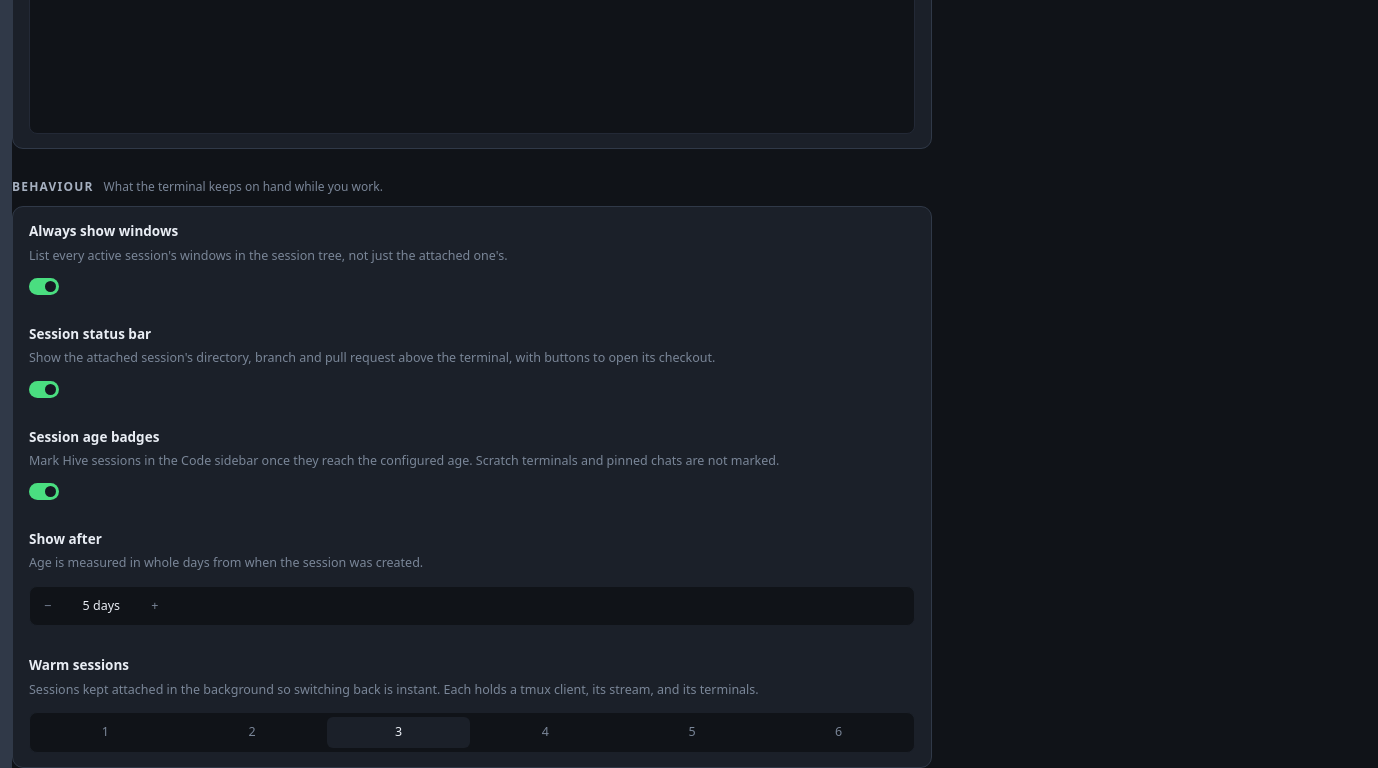
Test: TerminalSettingsView › disables session age badges and changes their threshold
(page scrolled)
Step 1. Click the switch with test id "settings-terminal-session-age" → (44, 492), box [29,483,59,500]
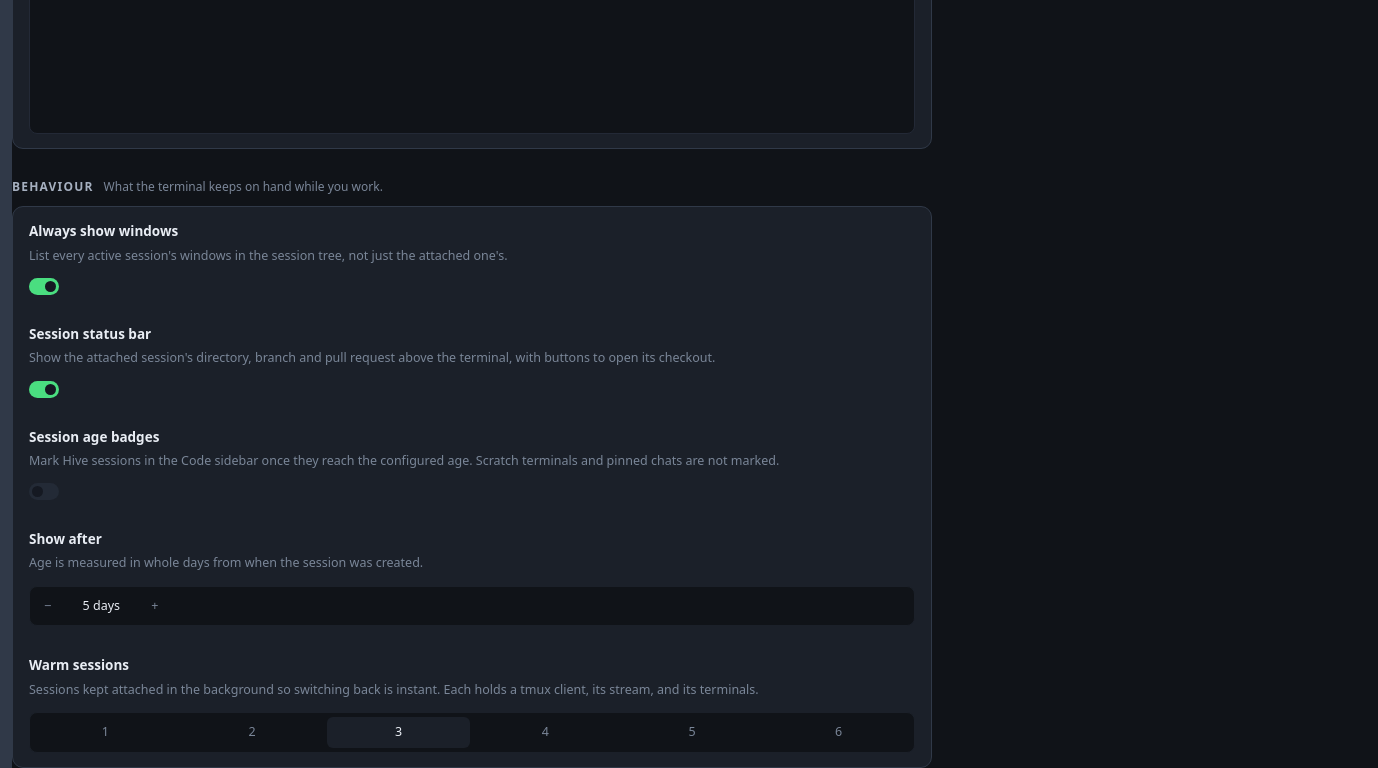
Step 2. Click the button with test id "settings-terminal-session-age-threshold-increase" → (155, 606), box [141,591,168,622]
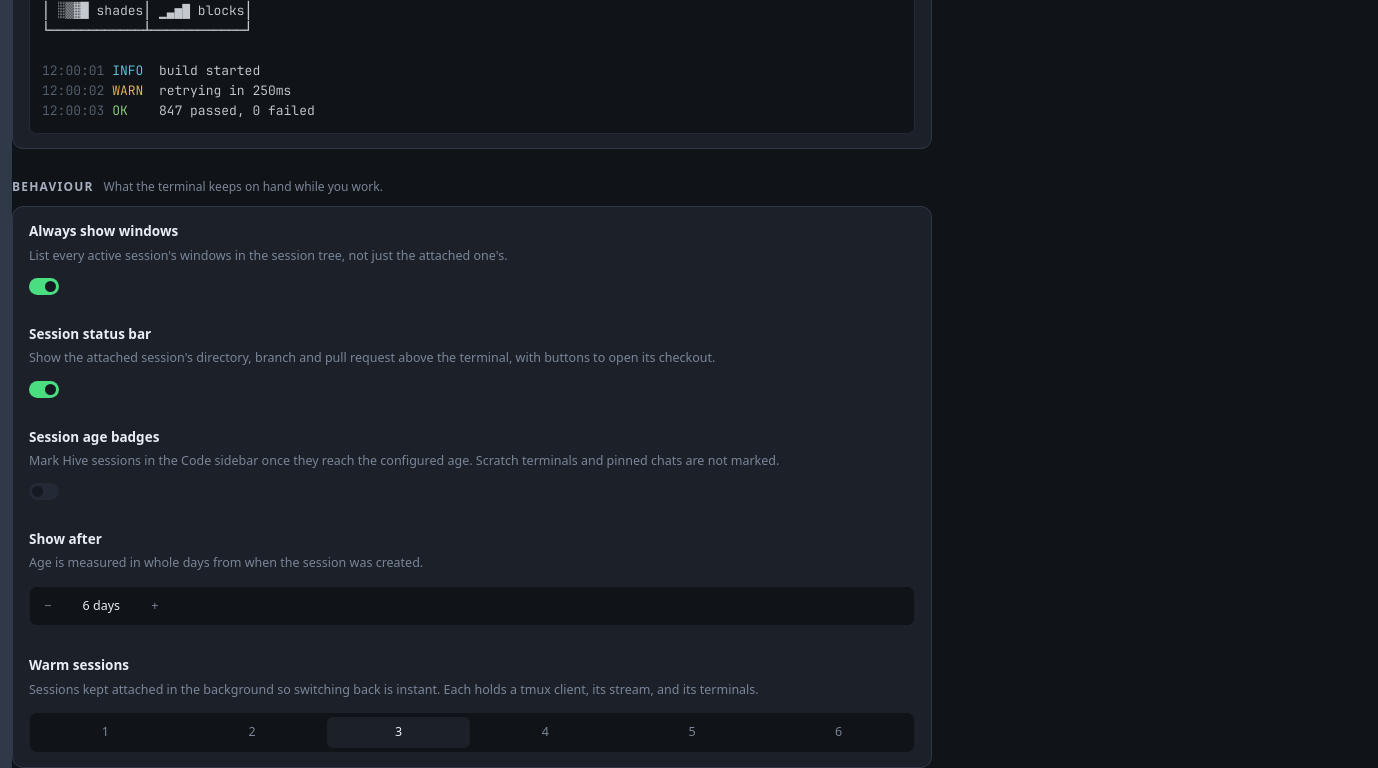
Now the text with test id "settings-terminal-session-age-threshold-value" reads "6 days", box [83,597,120,614]
